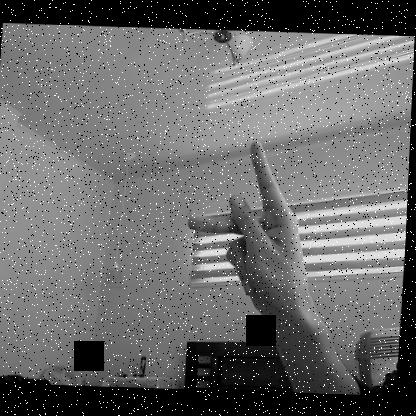K: (182, 134, 319, 320)
